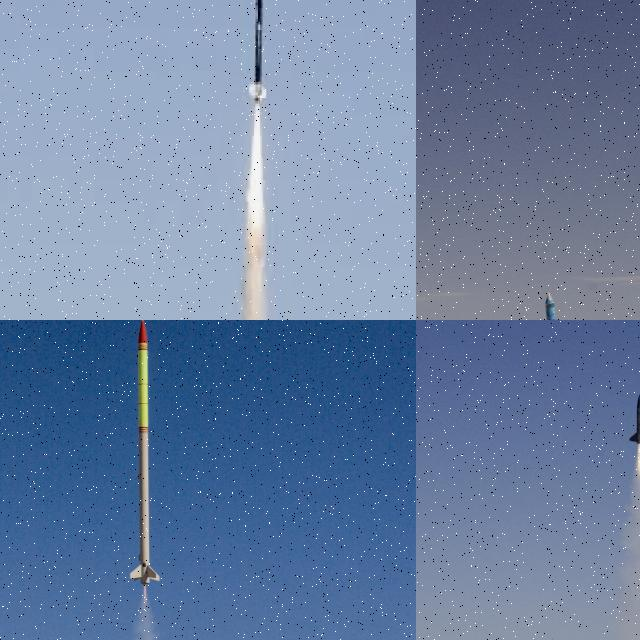Rocket: (128, 320, 161, 585), (247, 0, 268, 109), (541, 291, 568, 320), (629, 394, 640, 444)
